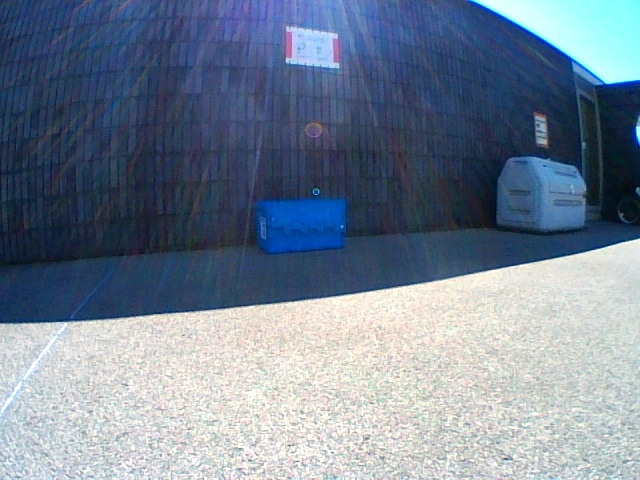blue_box: (257, 199, 343, 252)
tag: (261, 218, 265, 236)
